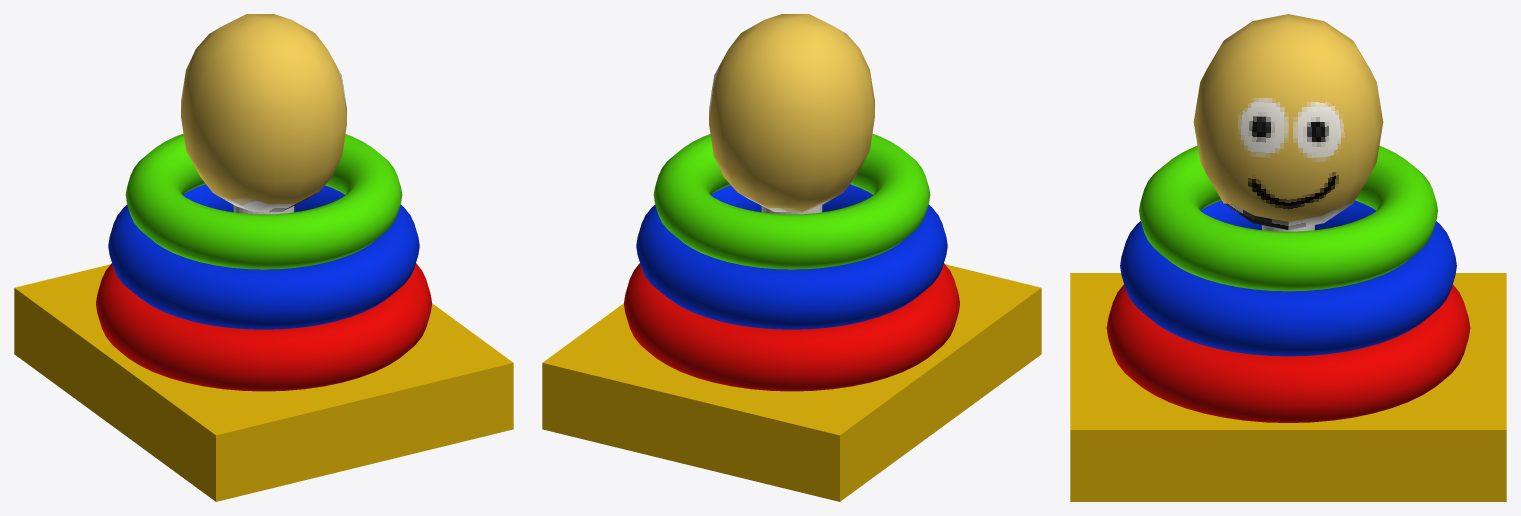
File: Ringo Rango.fbx
3 views of the same model, side by side, from view 1: azimuth 30°, elevation 25°; view 2: azimuth 150°, elevation 25°; view 3: azimuth 270°, elevation 25° (orthographic). The views are drawn at different scales.
Visible parts, largest first — view 1: Cube, Cube.001, Torus, Torus.001, Torus.002; view 2: Cube, Cube.001, Torus, Torus.001, Torus.002; view 3: Cube, Cube.001, Torus, Torus.001, Torus.002.
Part boxes in pixels (x1,y1,x2,y2): Cube: (14,264,513,501); Cube.001: (181,14,346,211); Torus: (96,263,431,391); Torus.001: (108,184,419,329); Torus.002: (125,133,402,269); Cube: (542,264,1041,501); Cube.001: (709,14,874,211); Torus: (624,263,959,391); Torus.001: (636,184,947,329); Torus.002: (653,133,930,269); Cube: (1070,273,1506,501); Cube.001: (1193,14,1383,229); Torus: (1106,284,1470,422); Torus.001: (1120,200,1456,356); Torus.002: (1139,146,1437,291).
Size of the model in its own units: 640 by 763 by 751.
